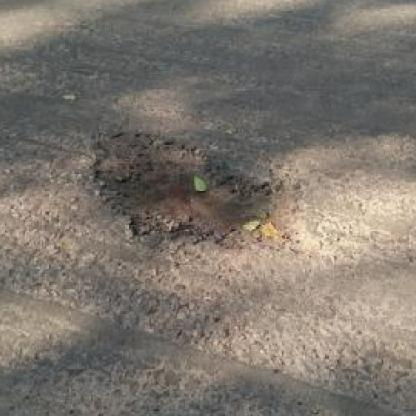pothole: (83, 128, 305, 256)
